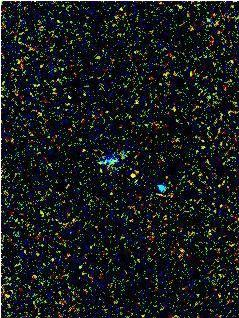star: (119, 162, 149, 192)
